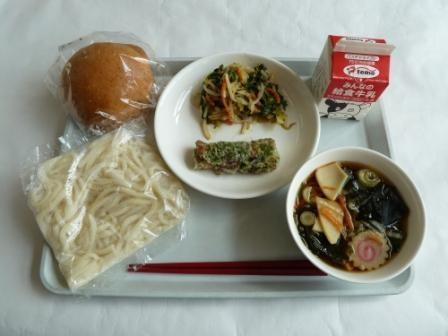Bread: (41, 25, 162, 126)
Milk: (313, 30, 396, 121)
Salad: (188, 59, 293, 131)
Soups: (287, 148, 431, 285)
Udon: (17, 135, 182, 283)
snacks: (187, 128, 287, 190)
